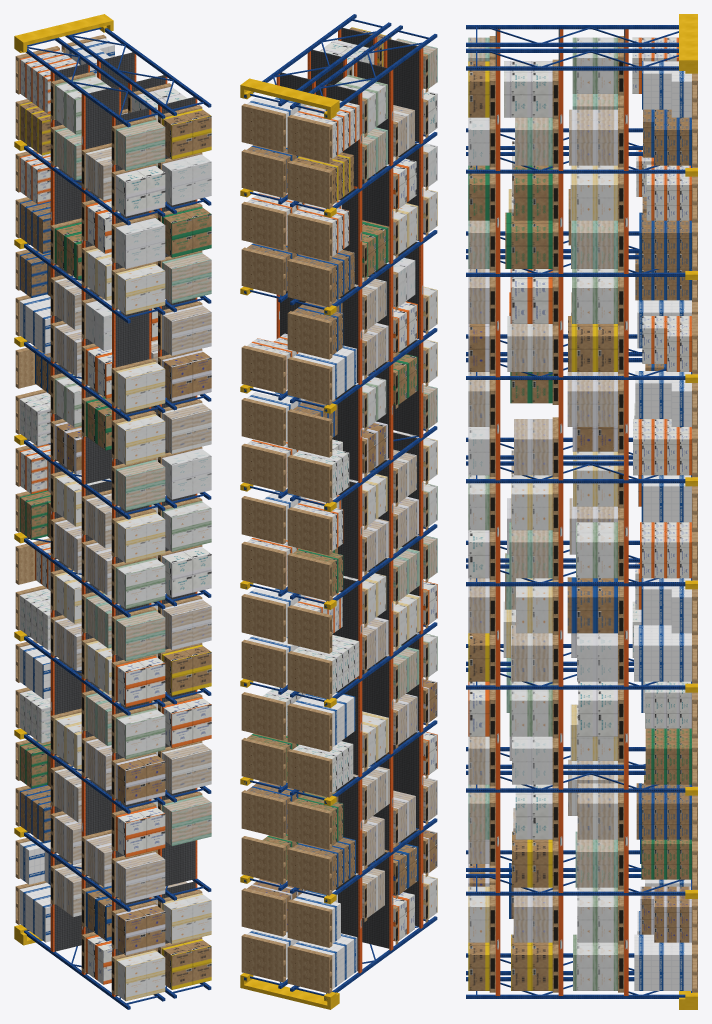
The model's file is racks_e0_n.gltf.
The picture shows the model from 3 angles, left to right: view 1: azimuth 30°, elevation 25°; view 2: azimuth 150°, elevation 25°; view 3: azimuth 270°, elevation 25°; orthographic projection. The views are drawn at different scales.
Parts seen in each view (by area): view 1: racks_e0_n; view 2: racks_e0_n; view 3: racks_e0_n.
Part boxes in pixels (bbox=[...]): racks_e0_n: bbox=[14, 14, 211, 1009]; racks_e0_n: bbox=[240, 14, 437, 1009]; racks_e0_n: bbox=[466, 14, 697, 1009].
Bounding box in the file's own units: 2.6 × 24.86 × 5.5.
21 materials, 21 textured.
